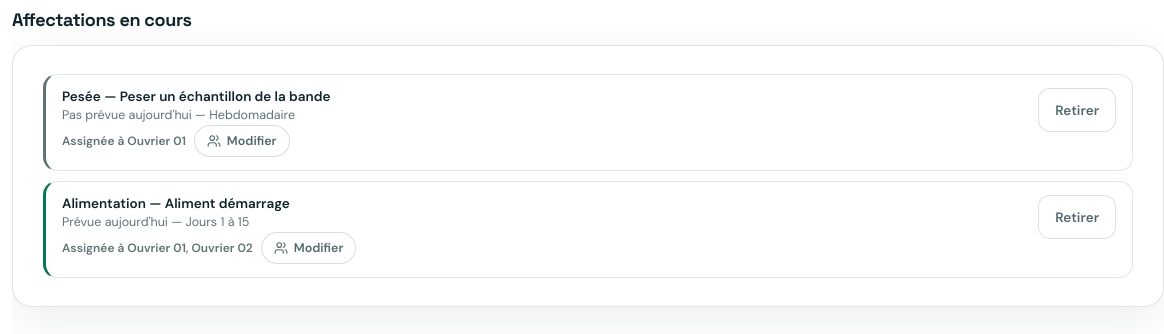
Test: AssignmentsPanel › removing a not-due assignment clears it through the assign endpoint
Click the button "Retirer" in the row of "Peser un échantillon de la bande" at (1077, 110), box 1038,88 -> 1116,132
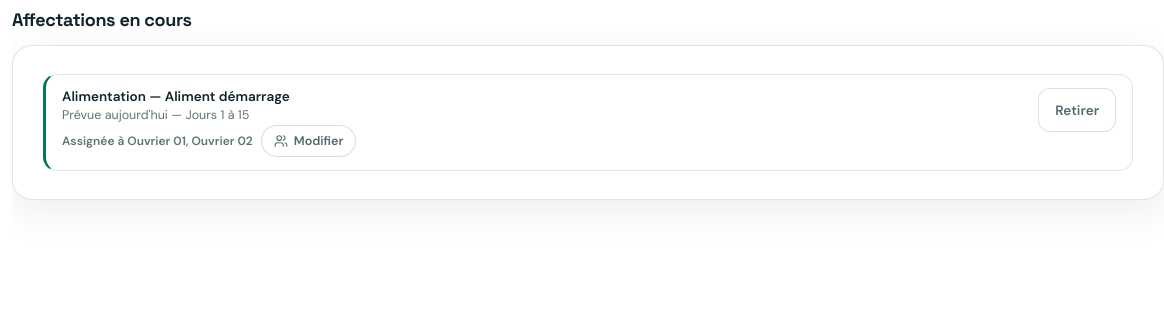
Expected: the text "Peser un échantillon de la bande" is gone
